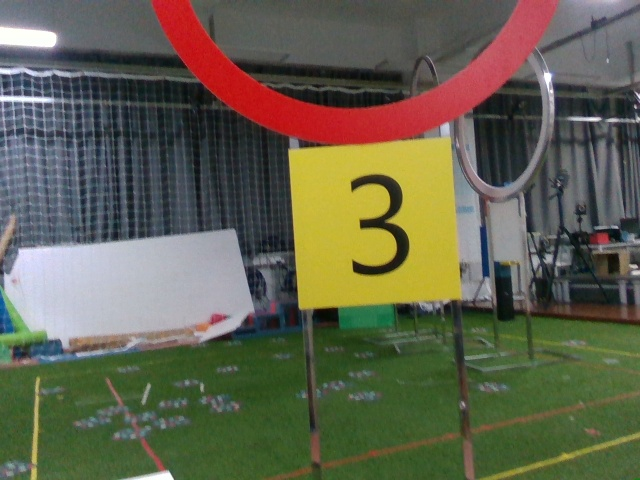target: (301, 144, 457, 300)
